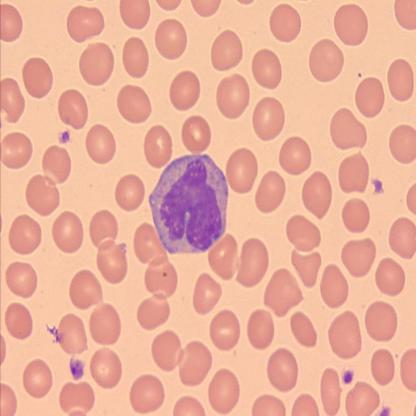Monocyte: (147, 151, 230, 256)
